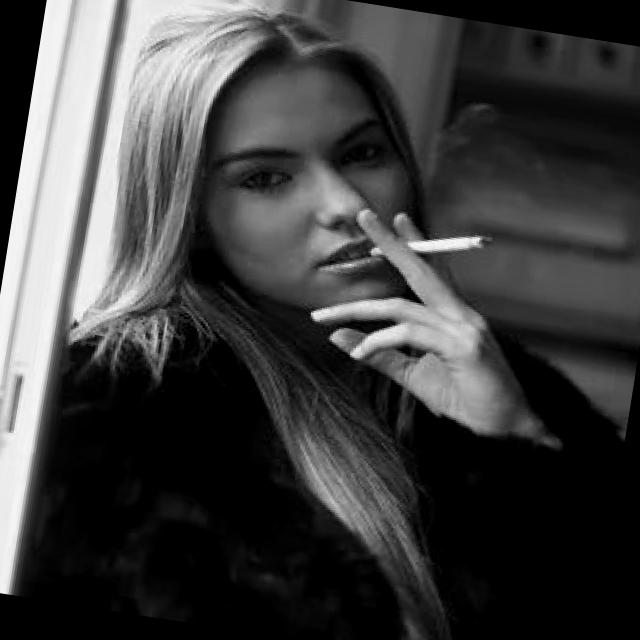smoke: (360, 212, 498, 278)
